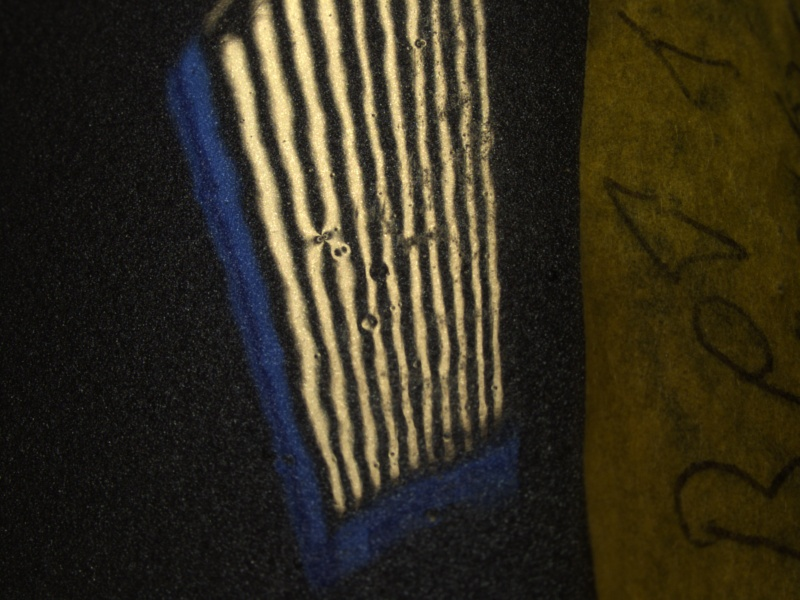bad: (309, 218, 356, 261), (352, 302, 388, 341), (408, 31, 435, 54)
